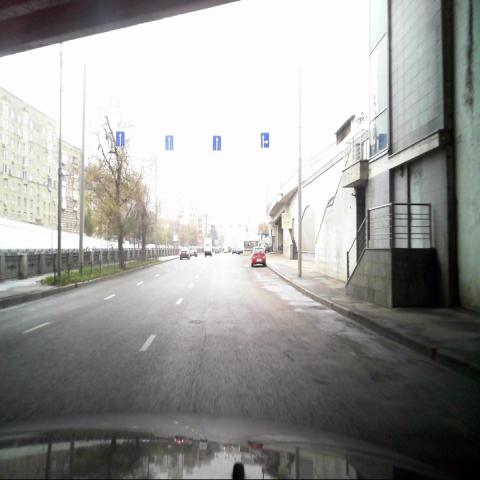5_15_2: (115, 130, 125, 147), (212, 134, 221, 152), (166, 134, 174, 150), (261, 132, 269, 148)
